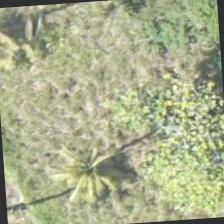Kelapa_Sawit: (37, 135, 135, 223), (0, 3, 71, 97)
